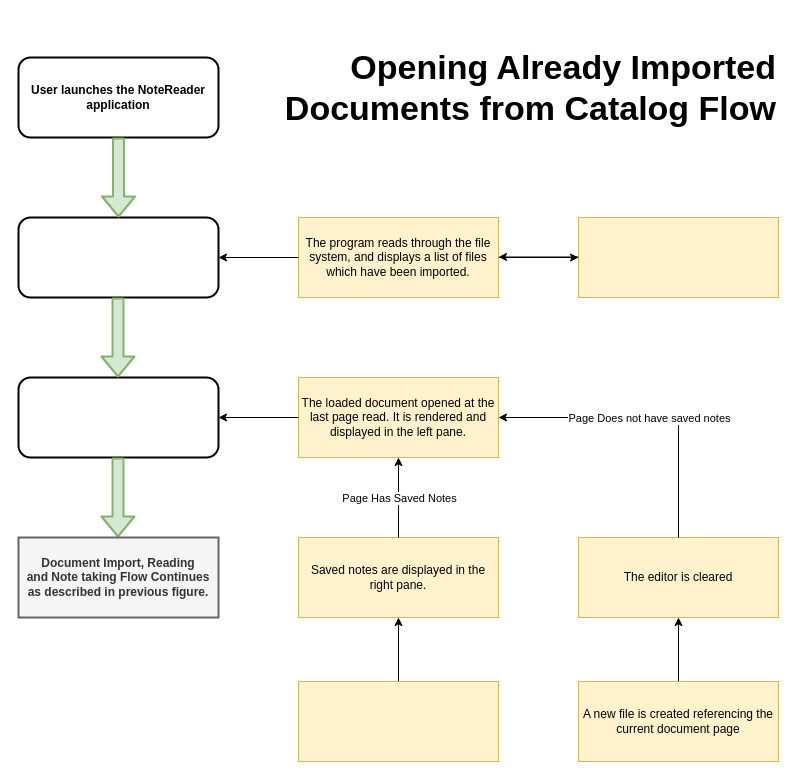
Some shapes in this 796 by 779 pixel diagram are drawn without their labels. Here are the shapes that lost their labels. From the top down, the box of each, then its label:
(17, 216, 219, 298): User selects "Catalog"
(578, 216, 778, 298): Files are indexed to make them searchable and sortable
(17, 376, 219, 458): The user selects a file A Two Pane window is opened.
(298, 680, 498, 762): The file containing saved notes for the current page is loaded.
